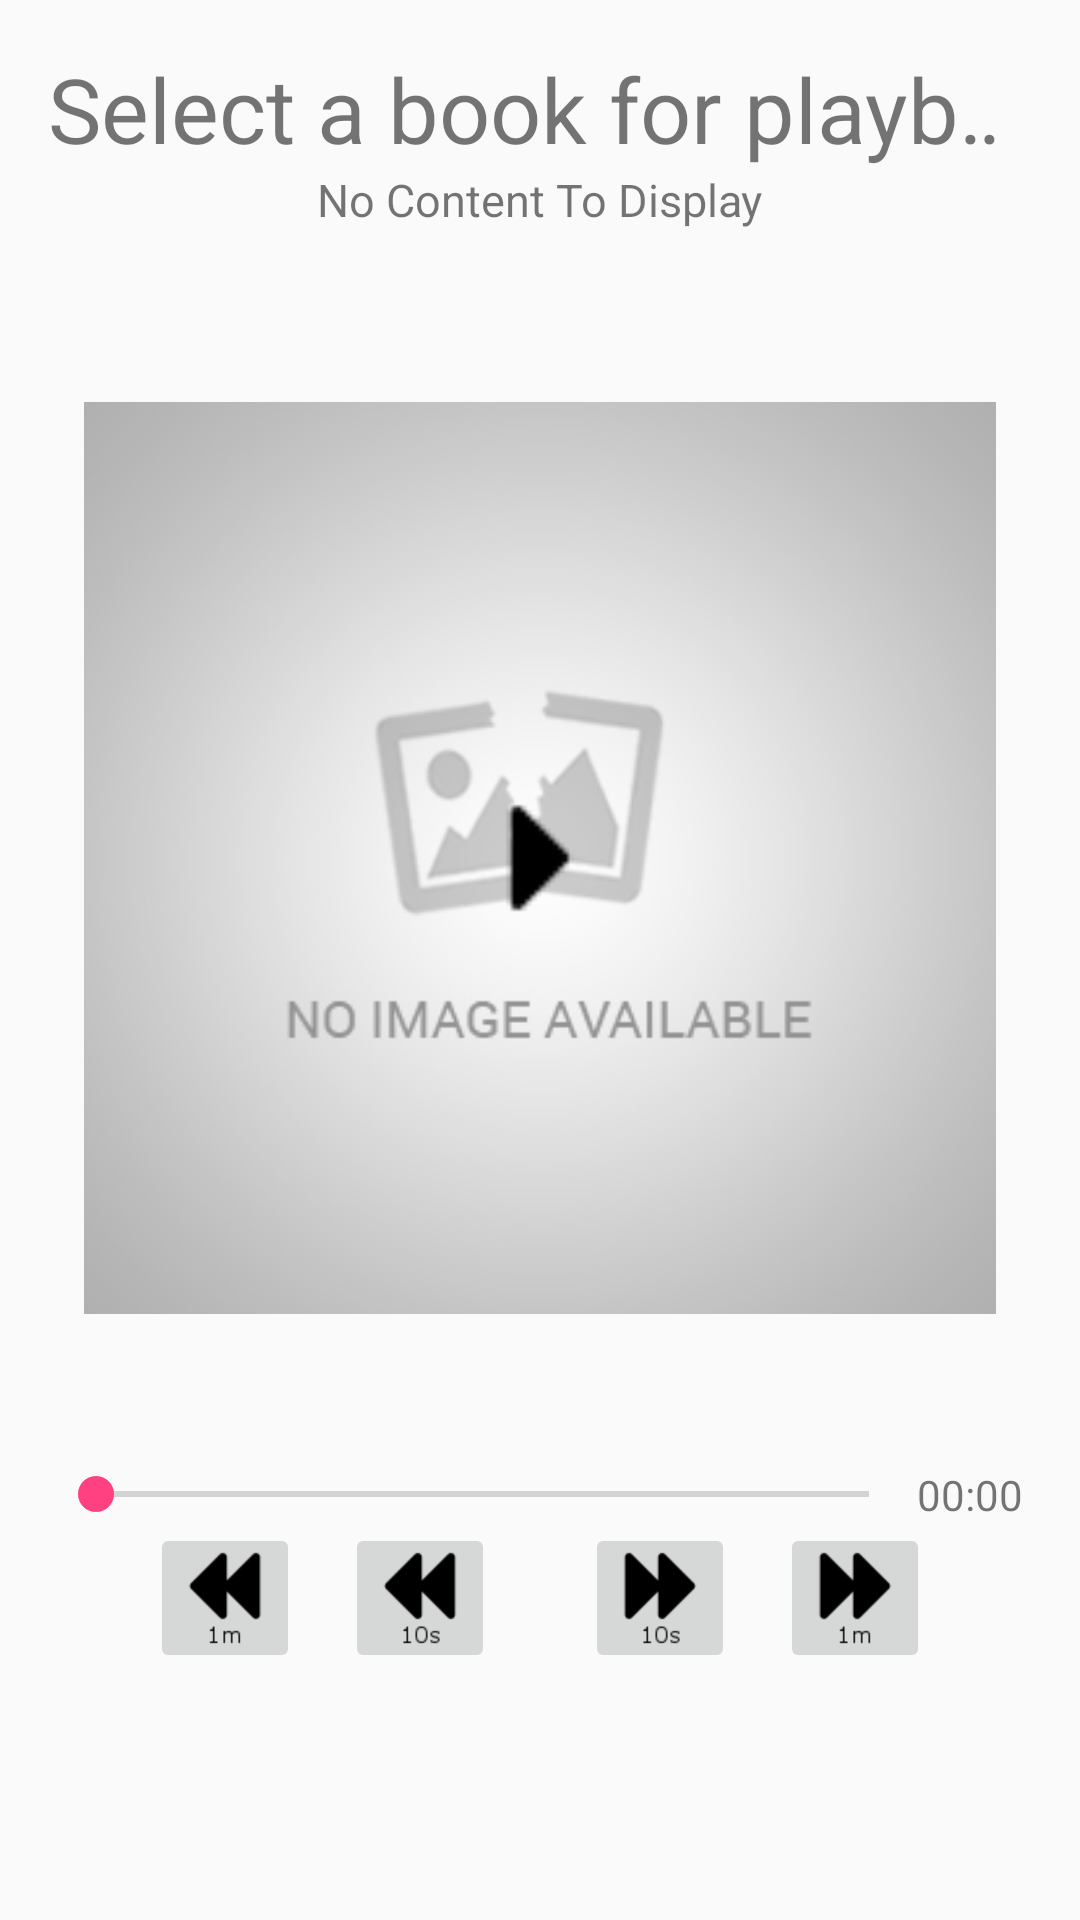

Screen size 1080x1920. Icon name, then its box in pixels as {"x1": x1, "y1": y1, "x2": x2, "y2": y2}:
Fastforward 1 minute: {"x1": 792, "y1": 1541, "x2": 918, "y2": 1655}
Fastforward 10 seconds: {"x1": 597, "y1": 1541, "x2": 723, "y2": 1655}
Rewind 1 minute: {"x1": 162, "y1": 1541, "x2": 288, "y2": 1655}
Rewind 10 seconds: {"x1": 357, "y1": 1541, "x2": 483, "y2": 1655}
Toggle between play and pause: {"x1": 465, "y1": 783, "x2": 615, "y2": 911}
